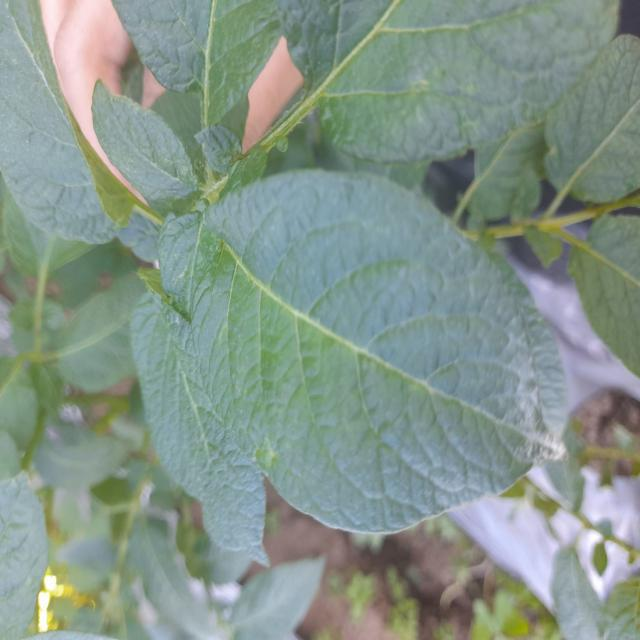healthy: (128, 166, 572, 564)
